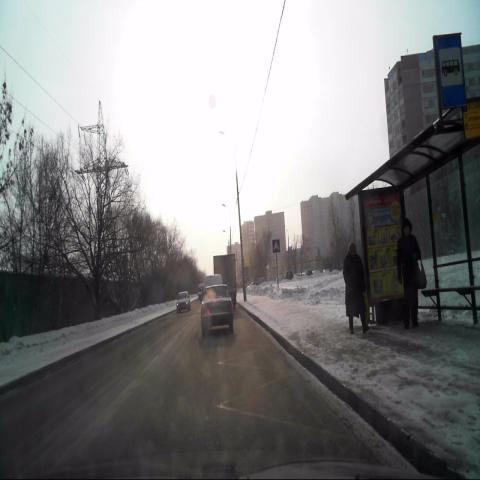5_16: (432, 33, 466, 113)
